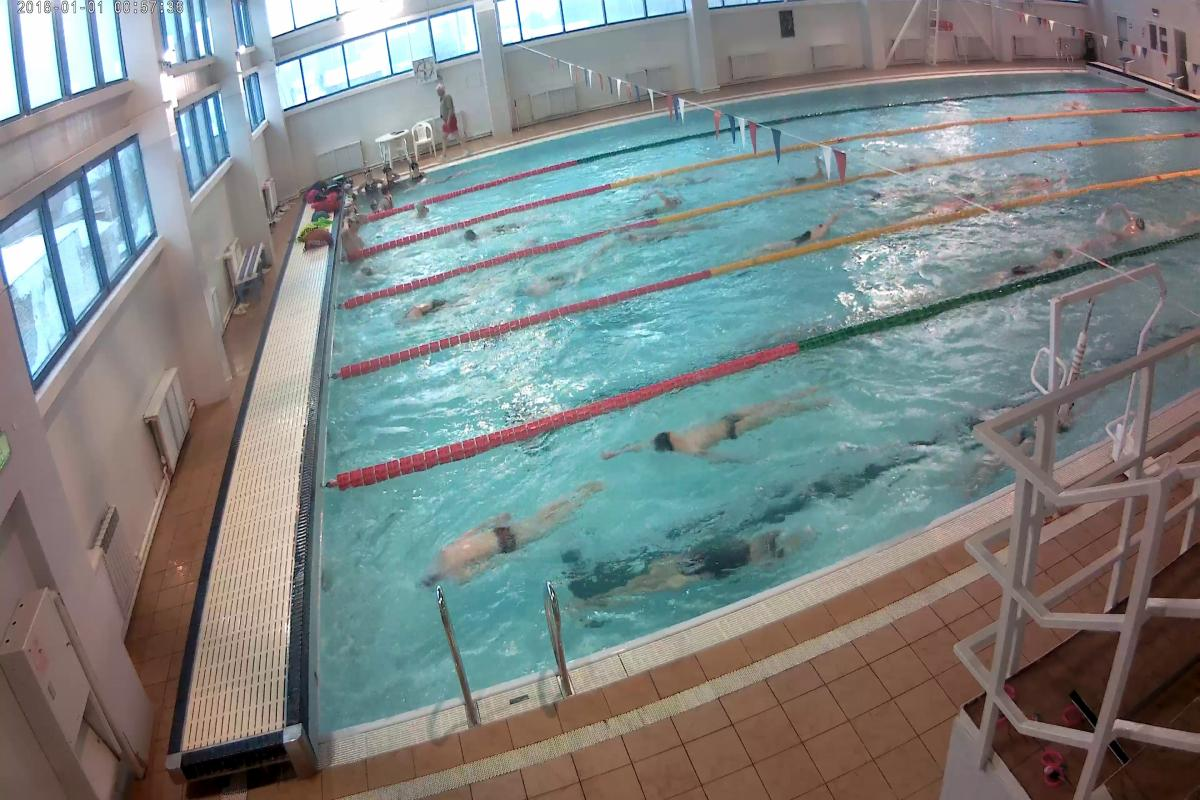swimmer: (610, 381, 840, 468), (424, 482, 600, 576), (655, 510, 813, 594), (759, 201, 850, 254), (989, 238, 1069, 278), (1102, 201, 1152, 244), (1003, 165, 1080, 191), (458, 220, 524, 246), (402, 294, 455, 326), (632, 187, 682, 219), (786, 156, 826, 183), (412, 199, 433, 220)
